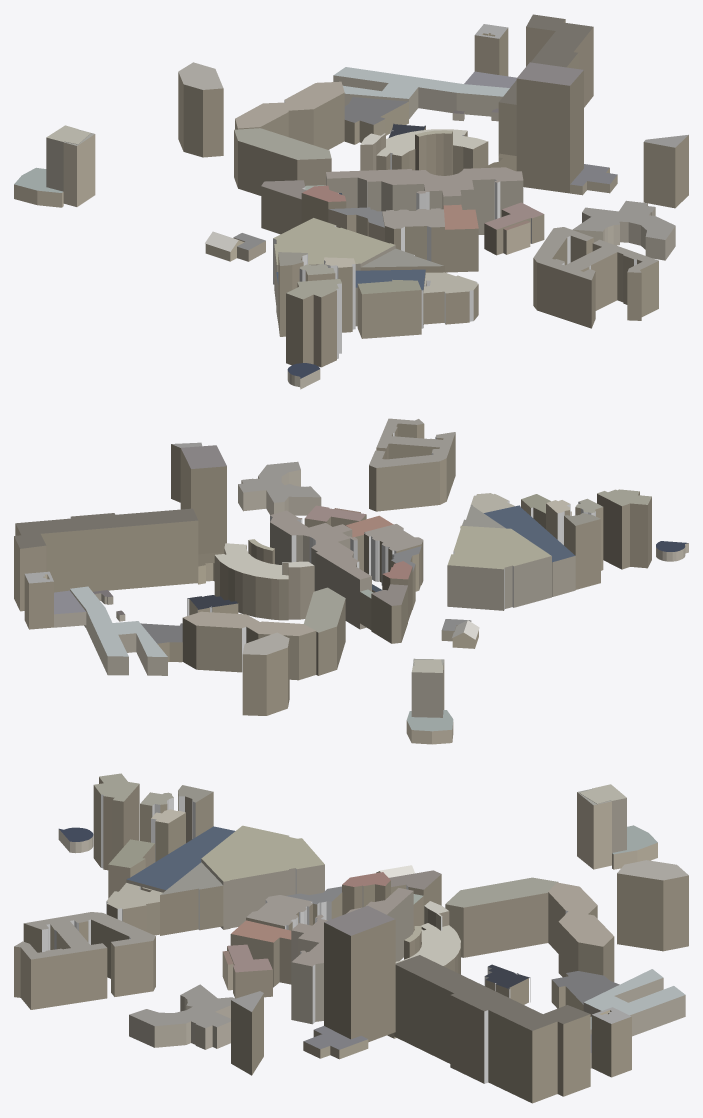
3 renders of one model, top to bottom at view 1: azimuth 30°, elevation 25°; view 2: azimuth 150°, elevation 25°; view 3: azimuth 270°, elevation 25°, orthographic. The views are drawn at different scales.
Parts seen in each view (by area): view 1: tuile; view 2: tuile; view 3: tuile.
Part boxes in pixels (<box>): tuile: <box>14,14,688,389</box>; tuile: <box>14,418,688,744</box>; tuile: <box>14,773,688,1103</box>.
Bounding box in the file's own units: 274 × 60.77 × 287.
